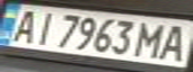3: (112, 17, 139, 56)
6: (90, 16, 118, 54)
7: (51, 11, 81, 50)
9: (72, 14, 100, 52)
A: (154, 21, 193, 62), (3, 7, 42, 43)
I: (27, 9, 60, 46)
M: (130, 19, 172, 60)
